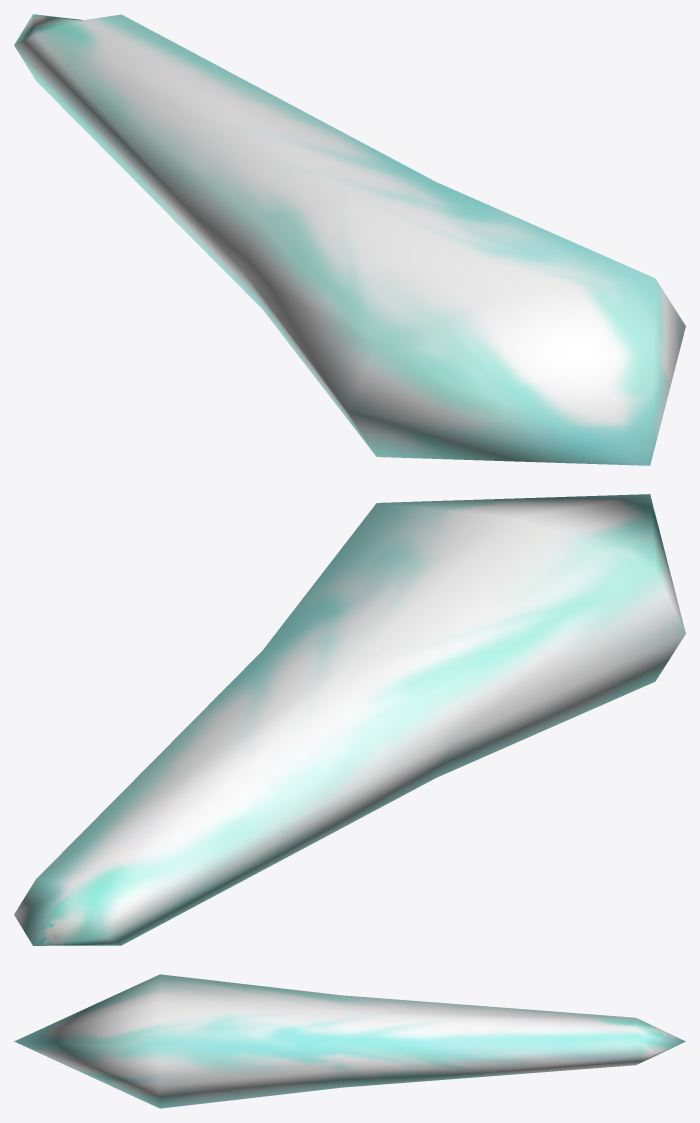
The model's file is Bullet1.FBX.
3 renders of one model, top to bottom at view 1: azimuth 30°, elevation 25°; view 2: azimuth 150°, elevation 25°; view 3: azimuth 270°, elevation 25°, orthographic. The views are drawn at different scales.
Parts seen in each view (by area): view 1: Box001; view 2: Box001; view 3: Box001.
Boxes of the visible parts, x1=… form: Box001: x1=14, y1=14, x2=685, y2=465; Box001: x1=14, y1=494, x2=685, y2=945; Box001: x1=14, y1=974, x2=685, y2=1108.
Bounding box in the file's own units: 46.81 × 19.4 × 147.
Materials: 1 (1 with a texture image).
